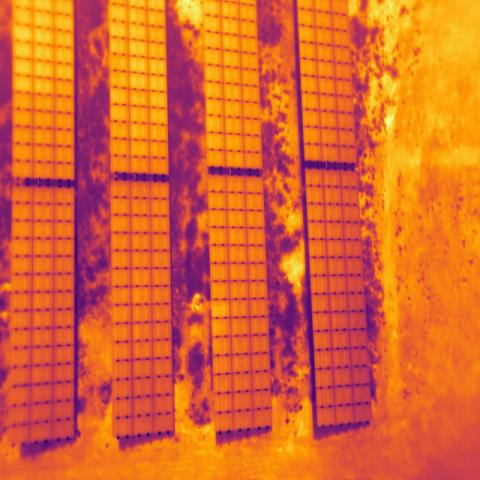fault: (11, 0, 74, 96), (211, 300, 230, 320)
